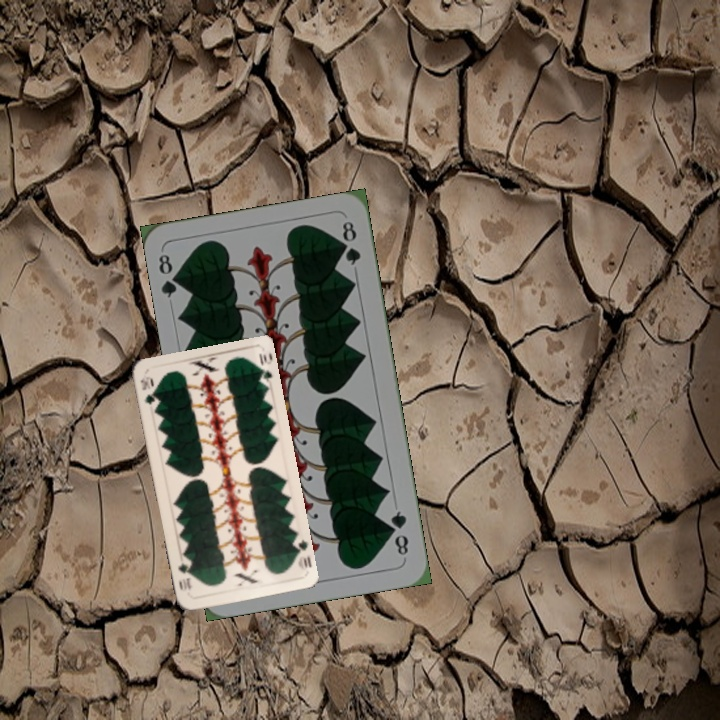G10: (289, 535, 314, 572), (136, 373, 158, 407)
G8: (154, 249, 185, 301), (386, 507, 411, 561)
